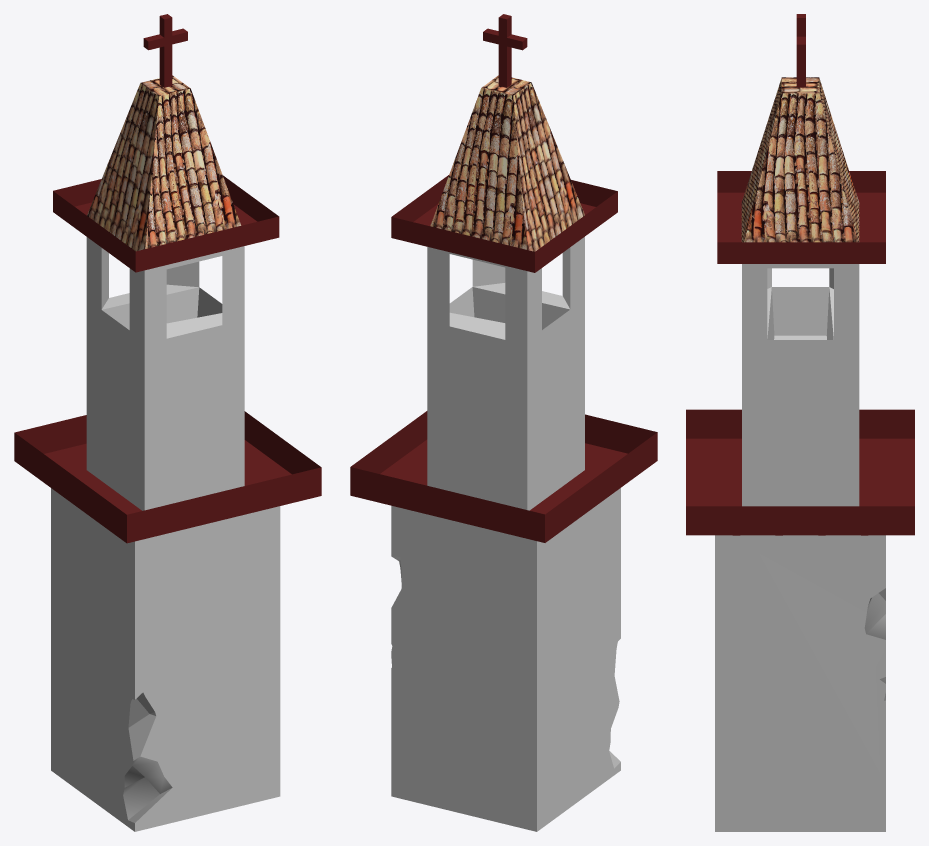
Rendered from FBX_RealisticModels_ChurchTower.fbx.
The picture shows the model from 3 angles, left to right: view 1: azimuth 30°, elevation 25°; view 2: azimuth 150°, elevation 25°; view 3: azimuth 270°, elevation 25°; orthographic projection.
Visible parts, largest first — view 1: polySurface2, pPlane4, pasted__pCube15, pasted__pCube14, pCube156; view 2: polySurface2, pPlane4, pasted__pCube15, pasted__pCube14, pCube156; view 3: polySurface2, pasted__pCube15, pPlane4, pasted__pCube14, pCube156.
Part boxes in pixels (box(x1,y1,x2,y2)): polySurface2: box(51, 237, 280, 831); pPlane4: box(87, 75, 241, 251); pasted__pCube15: box(14, 411, 321, 543); pasted__pCube14: box(53, 175, 279, 272); pCube156: box(143, 14, 187, 87); polySurface2: box(391, 237, 620, 831); pPlane4: box(430, 75, 584, 251); pasted__pCube15: box(350, 411, 657, 542); pasted__pCube14: box(391, 175, 617, 272); pCube156: box(483, 14, 527, 87); polySurface2: box(715, 264, 885, 831); pasted__pCube15: box(686, 409, 914, 535); pPlane4: box(741, 77, 859, 242); pasted__pCube14: box(717, 171, 885, 263); pCube156: box(796, 14, 805, 87).
Size of the model in its own units: 1.34 by 5.04 by 1.34.
